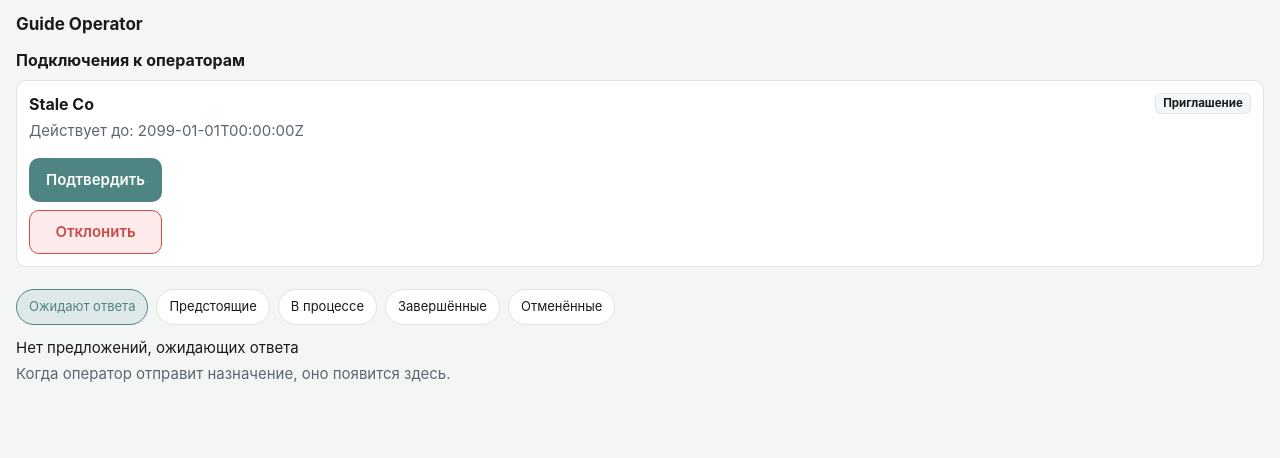
it: Guide Operator connections UI (GO8C3) › shows connection decision errors for stale invitations
Step 1. Click the button with test id "go-connection-confirm-gocon_stale" → (96, 180), box [29,158,162,202]
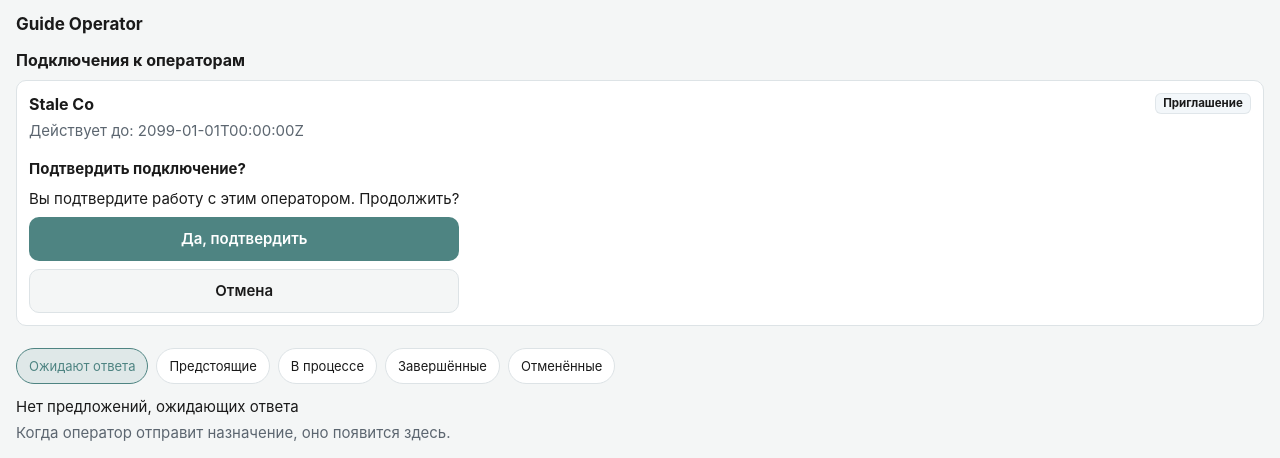
Step 2. Click the button with test id "go-connection-confirm-yes-gocon_stale" → (244, 239), box [29,217,459,261]
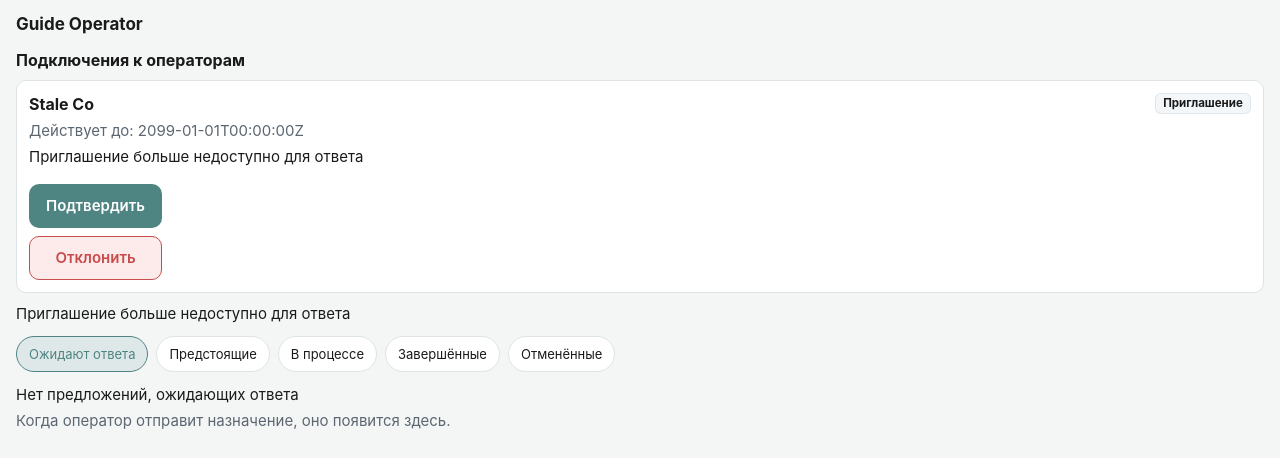
expect the message with test id "go-connection-action-error" reads "Приглашение больше недоступно для ответа": met, box [16,304,350,322]
